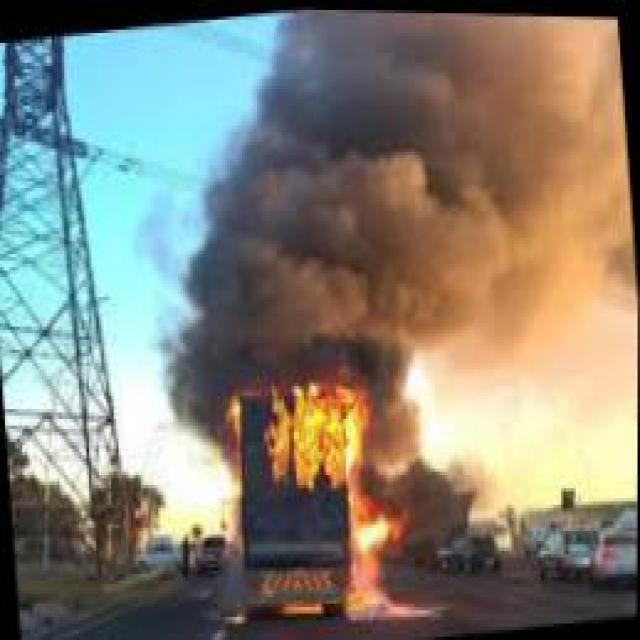Fire: (220, 352, 413, 634)
Smoke: (108, 3, 638, 416)
